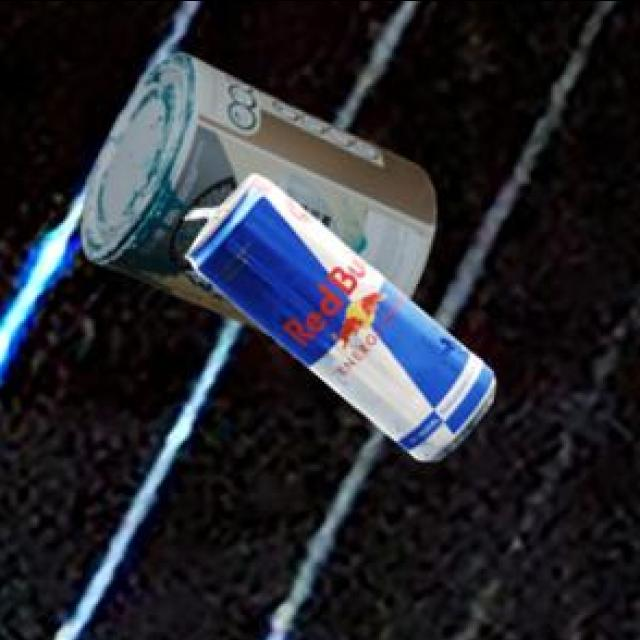logam: (77, 56, 432, 332), (182, 177, 493, 463)
